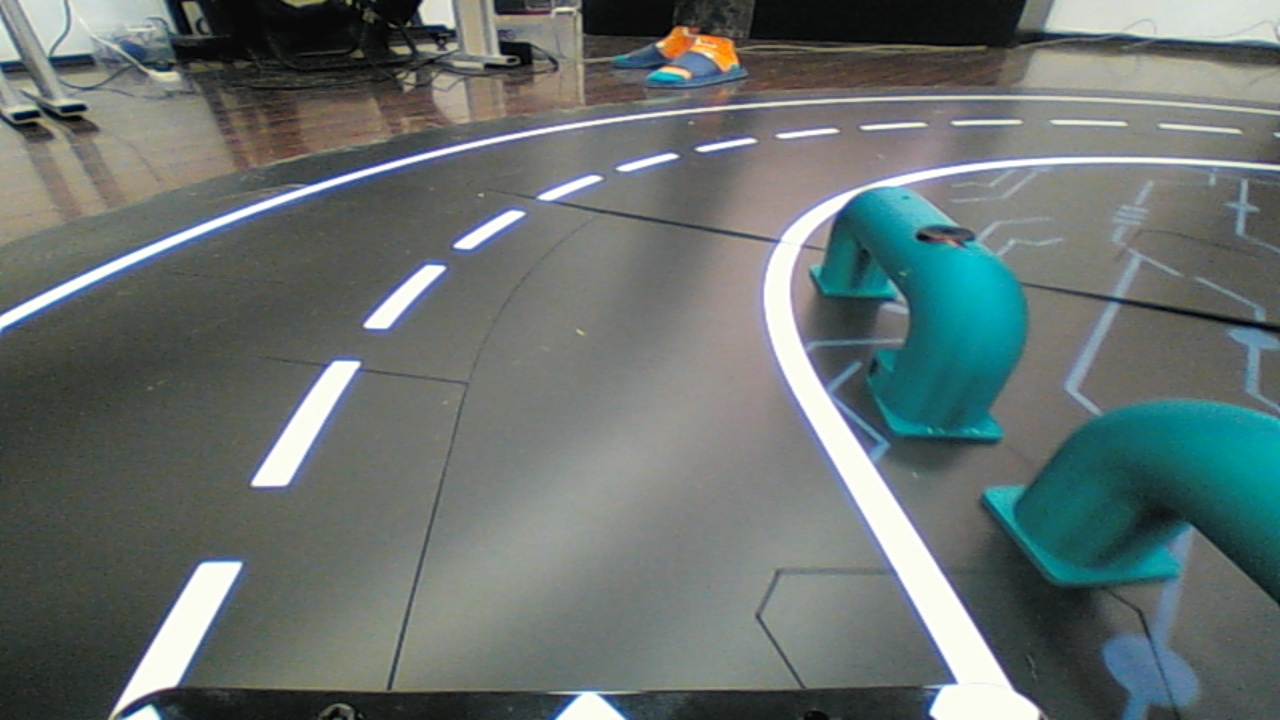Pedestrian crossing: (798, 151, 1044, 448)
